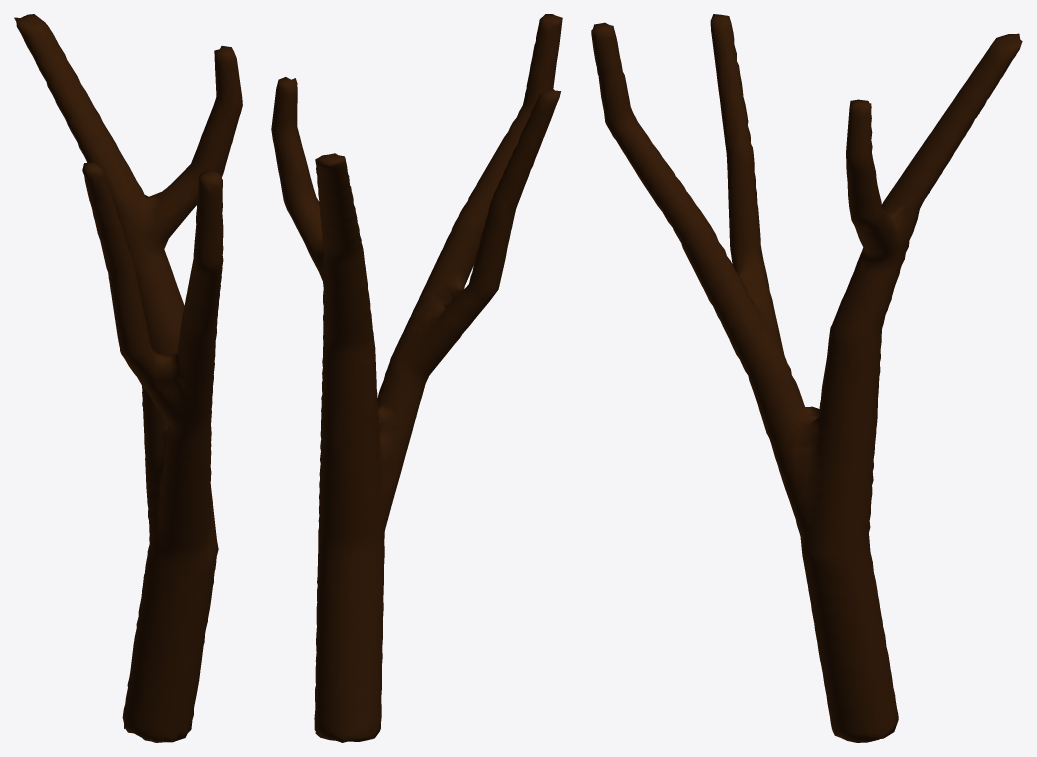
The model's file is tronco_2.fbx.
3 views of the same model, side by side, from view 1: azimuth 30°, elevation 25°; view 2: azimuth 150°, elevation 25°; view 3: azimuth 270°, elevation 25° (orthographic). The views are drawn at different scales.
Visible parts, largest first — view 1: arvore 1.003; view 2: arvore 1.003; view 3: arvore 1.003.
Part boxes in pixels (x1,y1,x2,y2): arvore 1.003: [14, 14, 242, 742]; arvore 1.003: [271, 14, 562, 742]; arvore 1.003: [591, 14, 1022, 742].
Bounding box in the file's own units: 1.9 × 3.15 × 5.37.
